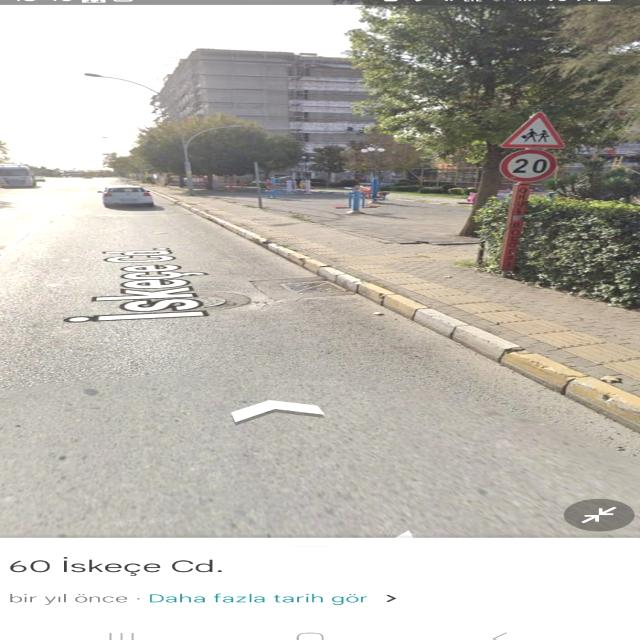okul_gecidi: (500, 110, 568, 148)
